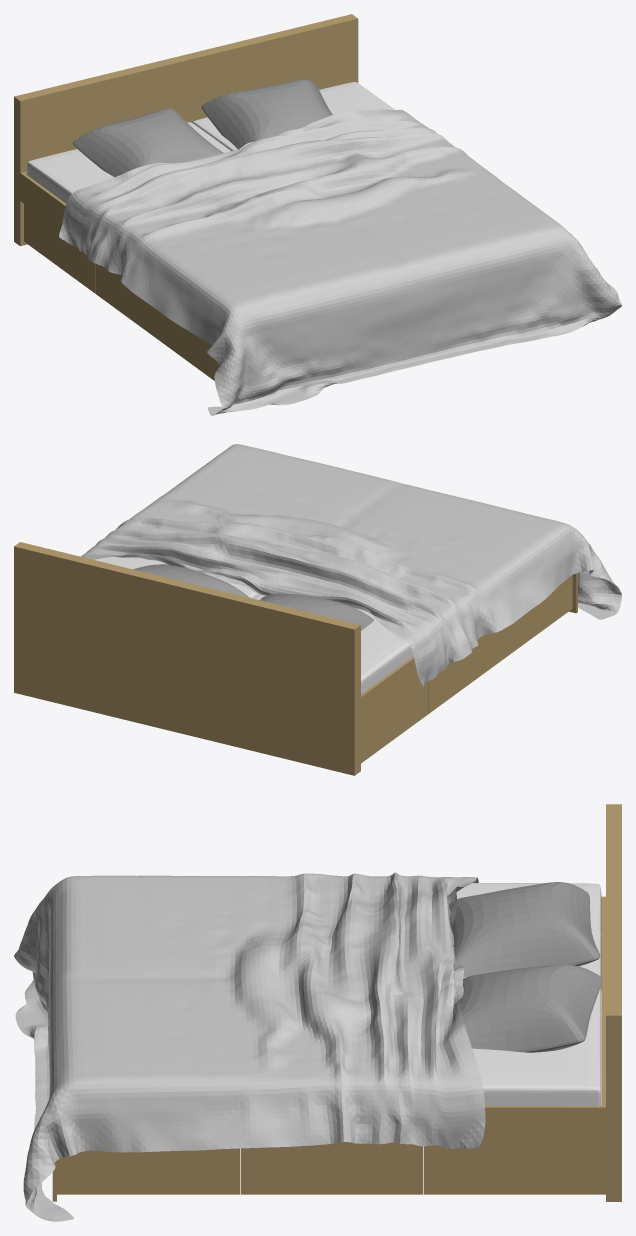
File: bedWithTexture.obj
3 views of the same model, one above another, from view 1: azimuth 30°, elevation 25°; view 2: azimuth 150°, elevation 25°; view 3: azimuth 270°, elevation 25° (orthographic). The views are drawn at different scales.
Visible parts, largest first — view 1: blanket_Plane.003, bed_head_Plane.001, bed_frame_Cube, pillow_Cube.003, pillow.001_Cube.002, matress_Cube.001; view 2: blanket_Plane.003, bed_head_Plane.001, bed_frame_Cube, matress_Cube.001, pillow_Cube.003, pillow.001_Cube.002; view 3: blanket_Plane.003, bed_frame_Cube, pillow_Cube.003, pillow.001_Cube.002, matress_Cube.001, bed_head_Plane.001.
Boxes of the visible parts, box(x1,y1,x2,y2) form: blanket_Plane.003: box(59, 109, 621, 415); bed_head_Plane.001: box(14, 14, 358, 246); bed_frame_Cube: box(20, 171, 218, 380); pillow_Cube.003: box(73, 108, 223, 177); pillow.001_Cube.002: box(201, 79, 332, 149); matress_Cube.001: box(27, 82, 394, 203); blanket_Plane.003: box(81, 444, 621, 687); bed_head_Plane.001: box(14, 542, 360, 775); bed_frame_Cube: box(361, 573, 577, 763); matress_Cube.001: box(94, 556, 413, 693); pillow_Cube.003: box(259, 593, 373, 630); pillow.001_Cube.002: box(133, 564, 249, 597); blanket_Plane.003: box(14, 872, 485, 1221); bed_frame_Cube: box(52, 896, 605, 1201); pillow_Cube.003: box(449, 882, 600, 976); pillow.001_Cube.002: box(460, 964, 602, 1052); matress_Cube.001: box(456, 883, 601, 1105); bed_head_Plane.001: box(606, 804, 621, 1201).
Size of the model in its own units: 225 by 76.5 by 226.
